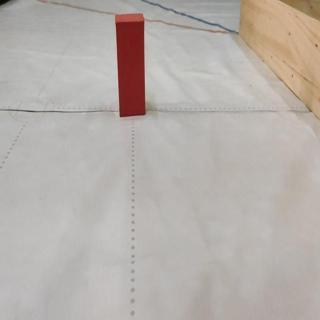redbox: (115, 13, 146, 118)
